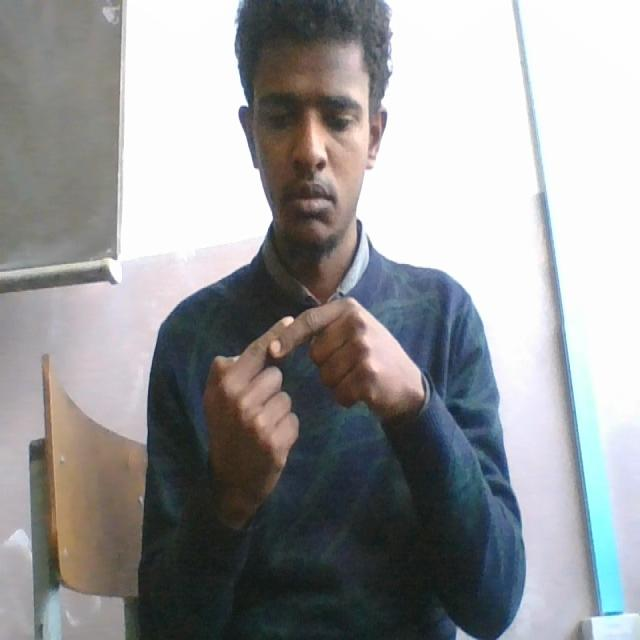eske: (194, 293, 419, 499)
